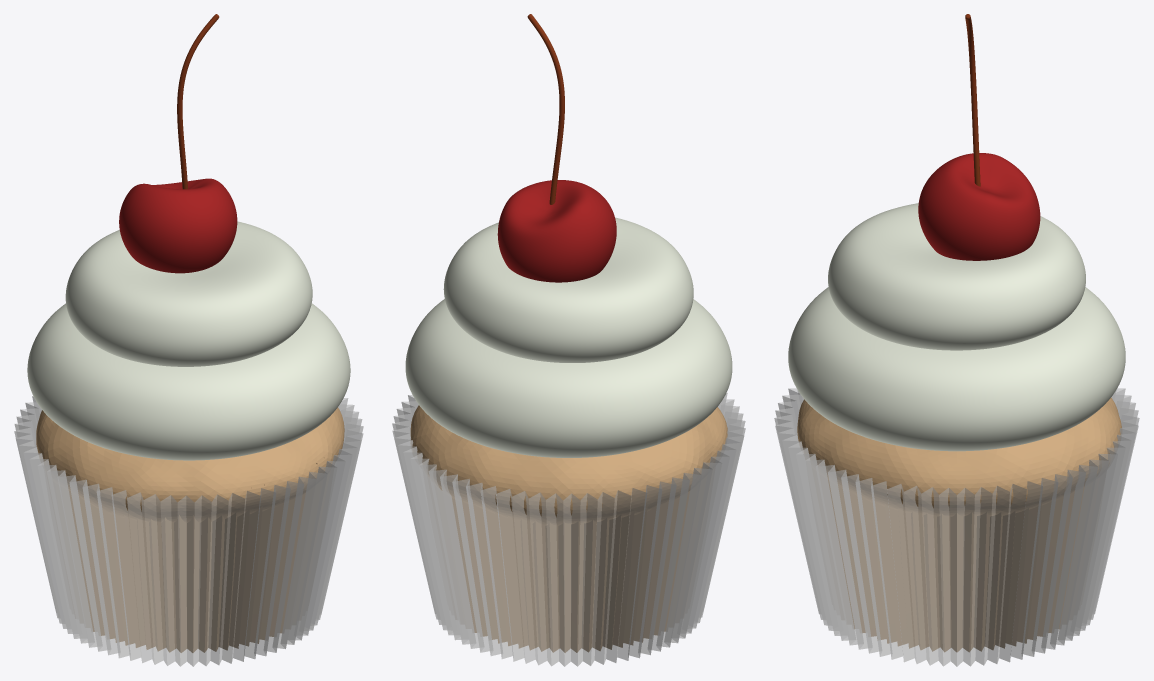
The model's file is cup_cake.glb.
The picture shows the model from 3 angles, left to right: view 1: azimuth 30°, elevation 25°; view 2: azimuth 150°, elevation 25°; view 3: azimuth 270°, elevation 25°; orthographic projection. The views are drawn at different scales.
Parts seen in each view (by area): view 1: Circle, Sphere, Sphere.001, Circle.001, Icosphere, cherry, branch; view 2: Circle, Sphere, Circle.001, Sphere.001, Icosphere, cherry, branch; view 3: Circle, Sphere, Circle.001, Sphere.001, Icosphere, cherry, branch.
Boxes of the visible parts, box(x1,y1,x2,y2) form: Circle: box(14, 396, 363, 666); Sphere: box(27, 303, 350, 460); Sphere.001: box(65, 221, 312, 366); Circle.001: box(69, 457, 324, 652); Icosphere: box(36, 407, 344, 522); cherry: box(119, 178, 237, 273); branch: box(177, 14, 219, 189); Circle: box(392, 393, 745, 666); Sphere: box(405, 299, 732, 457); Circle.001: box(452, 491, 689, 652); Sphere.001: box(443, 217, 693, 362); Icosphere: box(410, 405, 727, 525); cherry: box(497, 180, 616, 282); branch: box(527, 14, 564, 204); Circle: box(774, 388, 1139, 666); Sphere: box(788, 287, 1125, 451); Circle.001: box(799, 412, 1084, 652); Sphere.001: box(828, 203, 1085, 350); Icosphere: box(797, 397, 1121, 516); cherry: box(918, 153, 1040, 260); branch: box(965, 14, 980, 186).
Bounding box in the file's own units: 1.16 × 2.14 × 1.16.
